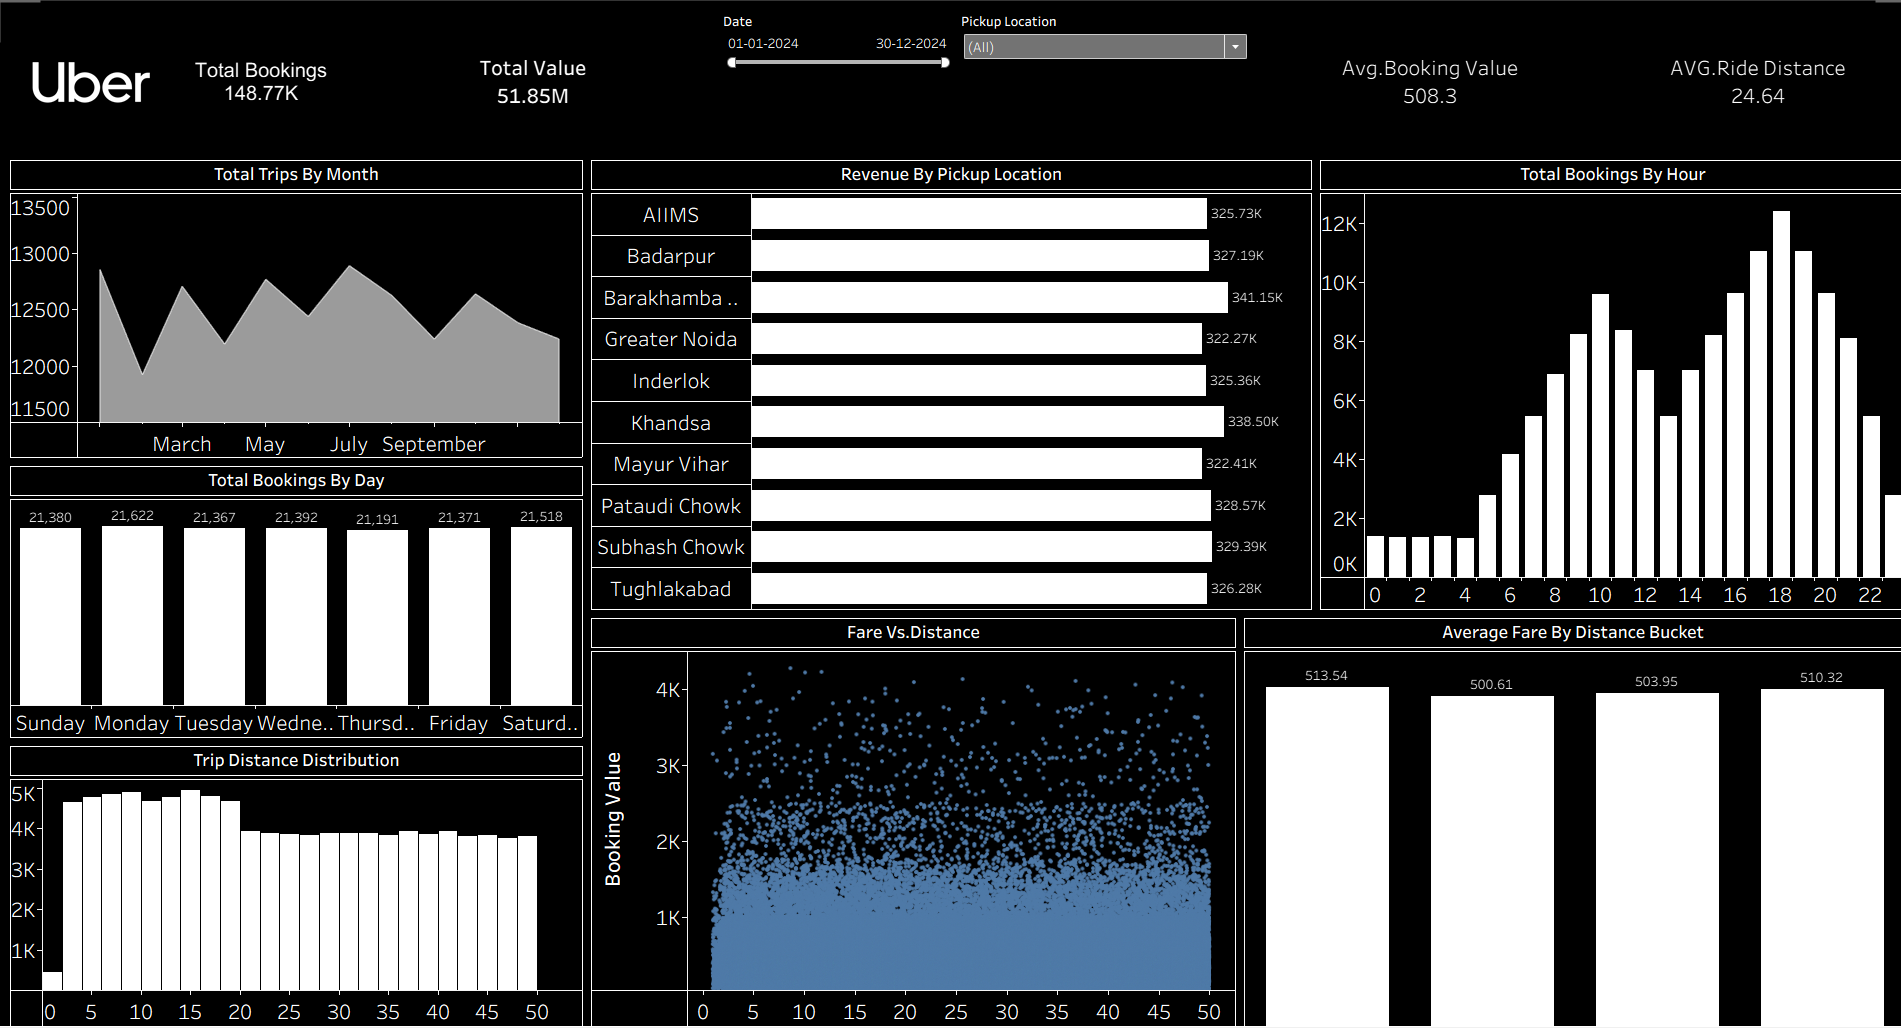

What the dashboard file says about the page in this screenshot:
{"tool":"tableau","page":{"name":"Dashboard 1","canvas":[1000,1000],"units":"permille","ordinal":0},"visuals":[{"type":"image","param":"Image/Uber logo.png","box":[4.9,9.4,88.3,136.2]},{"type":"worksheet","title":"Total Bookings","mark":"Automatic","box":[93.2,9.4,88.3,136.2]},{"type":"worksheet","title":"Total Value","mark":"Automatic","box":[181.5,9.4,194,136.2]},{"type":"filter","title":"Avg. Ride Distance","param":"[federated.116hav41mdjm3d1anmi8e04q8e2q].[none:Date:qk]","box":[375.5,9.4,124.1,136.2]},{"type":"filter","title":"Avg. Ride Distance","param":"[federated.116hav41mdjm3d1anmi8e04q8e2q].[none:Pickup Location:nk]","box":[499.6,9.4,154.5,136.2]},{"type":"worksheet","title":"Avg. Booking Value","mark":"Automatic","box":[654.1,9.4,182.6,136.2]},{"type":"worksheet","title":"Avg. Ride Distance","mark":"Automatic","box":[836.7,9.4,158.4,136.2]},{"type":"worksheet","title":"Total Trips By Month","mark":"Area","rows":["Calculation_0800208570310658"],"cols":["Date"],"box":[4.9,145.6,302.3,282]},{"type":"worksheet","title":"Revenue By Pickup Location","mark":"Automatic","rows":["Pickup Location"],"cols":["Booking Value"],"box":[307.2,145.6,378.9,422.4]},{"type":"worksheet","title":"Total Bookings By Hour","mark":"Bar","rows":["Calculation_0800208570310658"],"cols":["Time"],"box":[686.1,145.6,309.1,422.4]},{"type":"worksheet","title":"Total Bookings By Day","mark":"Bar","rows":["Calculation_0800208570310658"],"cols":["Calculation_0800208568389632"],"box":[4.9,427.7,302.3,258.5]},{"type":"worksheet","title":"Fare Vs.Distance","mark":"Automatic","rows":["Booking Value"],"cols":["Ride Distance"],"box":[307.2,568.1,339.4,422.5]},{"type":"worksheet","title":"Average Fare By Distance Bucket ","mark":"Automatic","rows":["Booking Value"],"cols":["Calculation_0800208569278465"],"box":[646.6,568.1,348.6,422.5]},{"type":"worksheet","title":"Trip Distance Distribution","mark":"Automatic","rows":["Ride Distance"],"cols":["Ride Distance (bin)"],"box":[4.9,686.2,302.3,304.4]}]}

Visuals, with their boxes on the dashboard's canvas, which has no fixed pixel size, in thousandths of its width and height (x1, y1, x2, y2). These are canvas units, not pixel positions in the 1901x1028 screenshot, which may show the page scaled, cropped or inside an application window:
image: locate(5, 9, 93, 146)
"Total Bookings" worksheet: locate(93, 9, 182, 146)
"Total Value" worksheet: locate(182, 9, 376, 146)
"Avg. Ride Distance" filter: locate(376, 9, 500, 146)
"Avg. Ride Distance" filter: locate(500, 9, 654, 146)
"Avg. Booking Value" worksheet: locate(654, 9, 837, 146)
"Avg. Ride Distance" worksheet: locate(837, 9, 995, 146)
"Total Trips By Month" worksheet (Area marks): locate(5, 146, 307, 428)
"Revenue By Pickup Location" worksheet: locate(307, 146, 686, 568)
"Total Bookings By Hour" worksheet (Bar marks): locate(686, 146, 995, 568)
"Total Bookings By Day" worksheet (Bar marks): locate(5, 428, 307, 686)
"Fare Vs.Distance" worksheet: locate(307, 568, 647, 991)
"Average Fare By Distance Bucket " worksheet: locate(647, 568, 995, 991)
"Trip Distance Distribution" worksheet: locate(5, 686, 307, 991)
